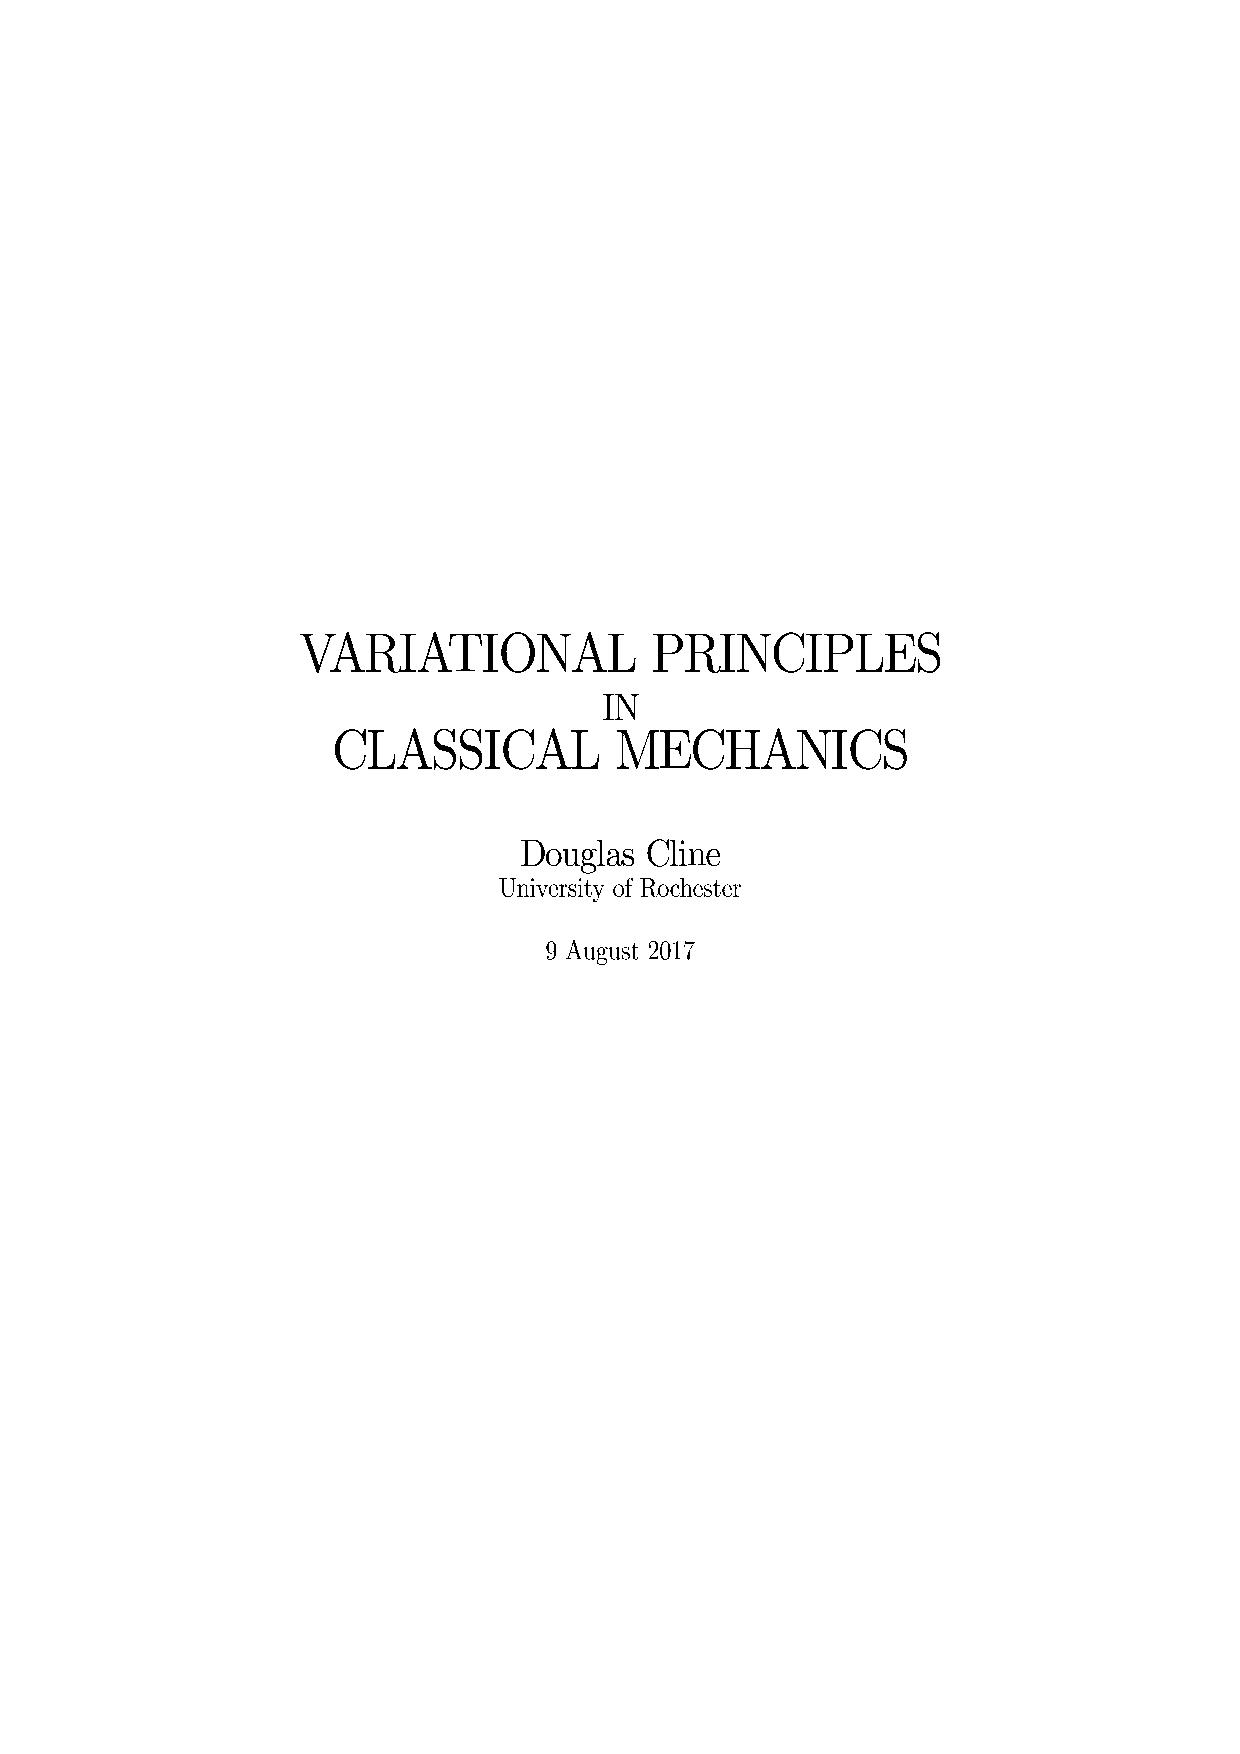author: (517, 836, 723, 875)
title: (294, 629, 942, 772)
